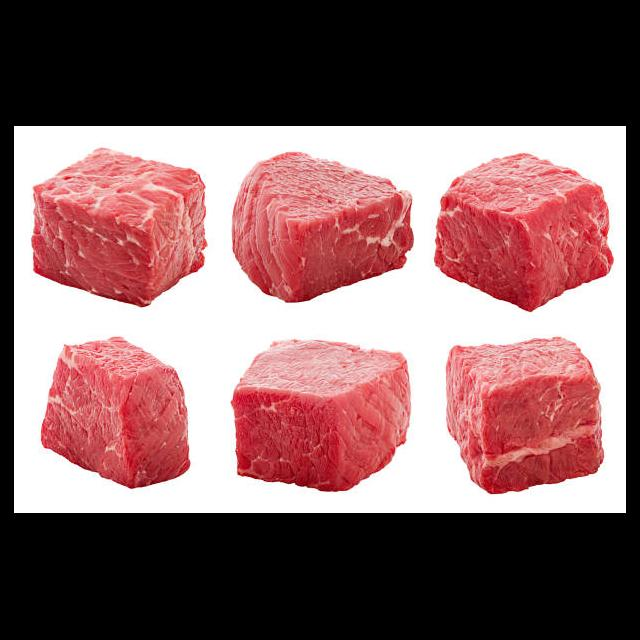beef: (431, 151, 615, 314), (31, 148, 207, 311), (231, 338, 410, 494), (231, 152, 413, 303), (442, 339, 606, 496), (39, 334, 192, 494)
